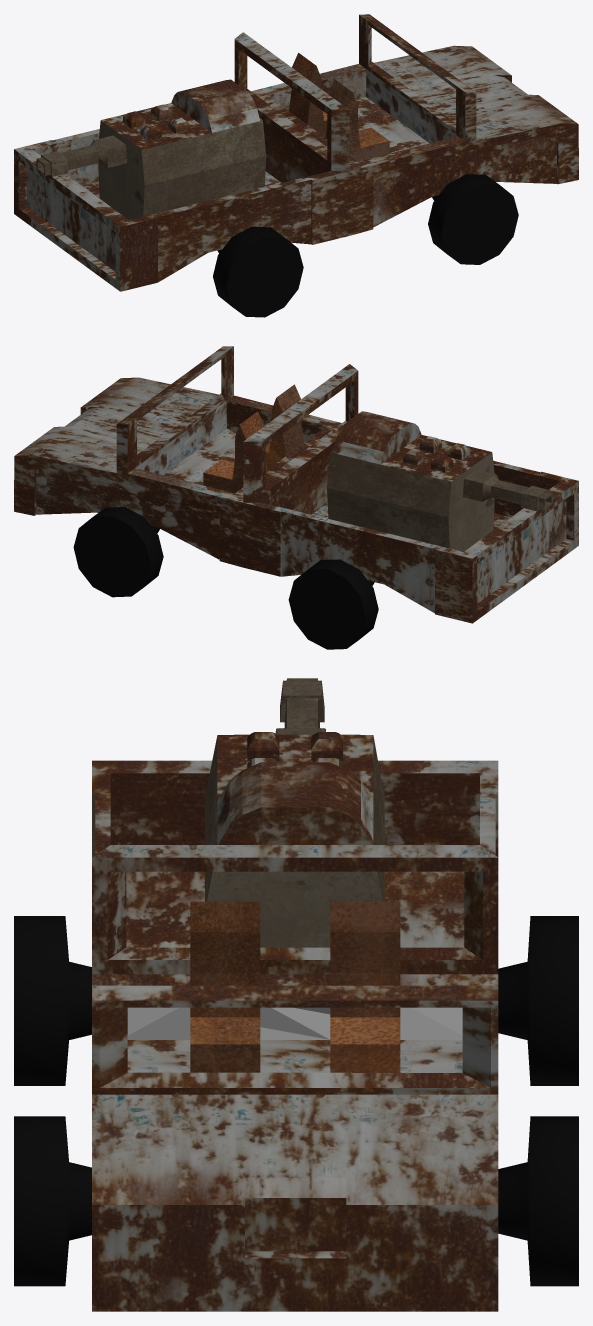
File: Endless Runner Level 2 Boss.fbx
3 renders of one model, top to bottom at view 1: azimuth 30°, elevation 25°; view 2: azimuth 150°, elevation 25°; view 3: azimuth 270°, elevation 25°, orthographic. The views are drawn at different scales.
Visible parts, largest first — view 1: Box001, Cylinder001, Cylinder002; view 2: Box001, Cylinder001, Cylinder002; view 3: Box001, Cylinder001, Cylinder002.
Part boxes in pixels (x1,y1,x2,y2): Box001: (14,14,578,291); Cylinder001: (428,174,518,264); Cylinder002: (213,226,303,317); Box001: (14,346,578,623); Cylinder001: (73,507,163,597); Cylinder002: (288,559,378,649); Box001: (92,678,498,1311); Cylinder001: (14,1116,578,1286); Cylinder002: (14,916,578,1085).
Bounding box in the file's own units: 98.96 × 32.67 × 52.49.
5 materials, 3 textured.
